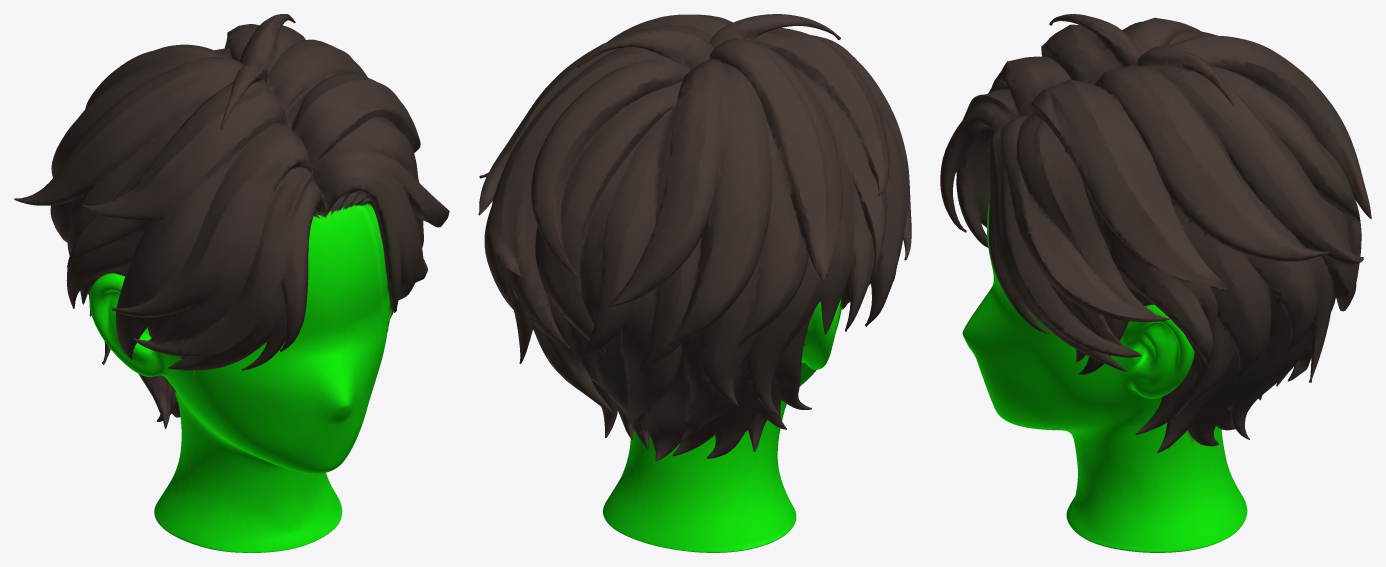
File: hair-haru-center-v2.glb
3 renders of one model, left to right at view 1: azimuth 30°, elevation 25°; view 2: azimuth 150°, elevation 25°; view 3: azimuth 270°, elevation 25°, orthographic. The views are drawn at different scales.
Visible parts, largest first — view 1: tripo_node_48b3295f-9684-4dd8-8ac9-0dac0f3ed0f2; view 2: tripo_node_48b3295f-9684-4dd8-8ac9-0dac0f3ed0f2; view 3: tripo_node_48b3295f-9684-4dd8-8ac9-0dac0f3ed0f2.
Boxes of the visible parts, x1,y1,x2,y2 form: tripo_node_48b3295f-9684-4dd8-8ac9-0dac0f3ed0f2: [14, 14, 449, 552]; tripo_node_48b3295f-9684-4dd8-8ac9-0dac0f3ed0f2: [478, 14, 911, 552]; tripo_node_48b3295f-9684-4dd8-8ac9-0dac0f3ed0f2: [940, 14, 1371, 552].
Size of the model in its own units: 0.778 by 0.9802 by 0.7989.
1 material, 1 textured.
